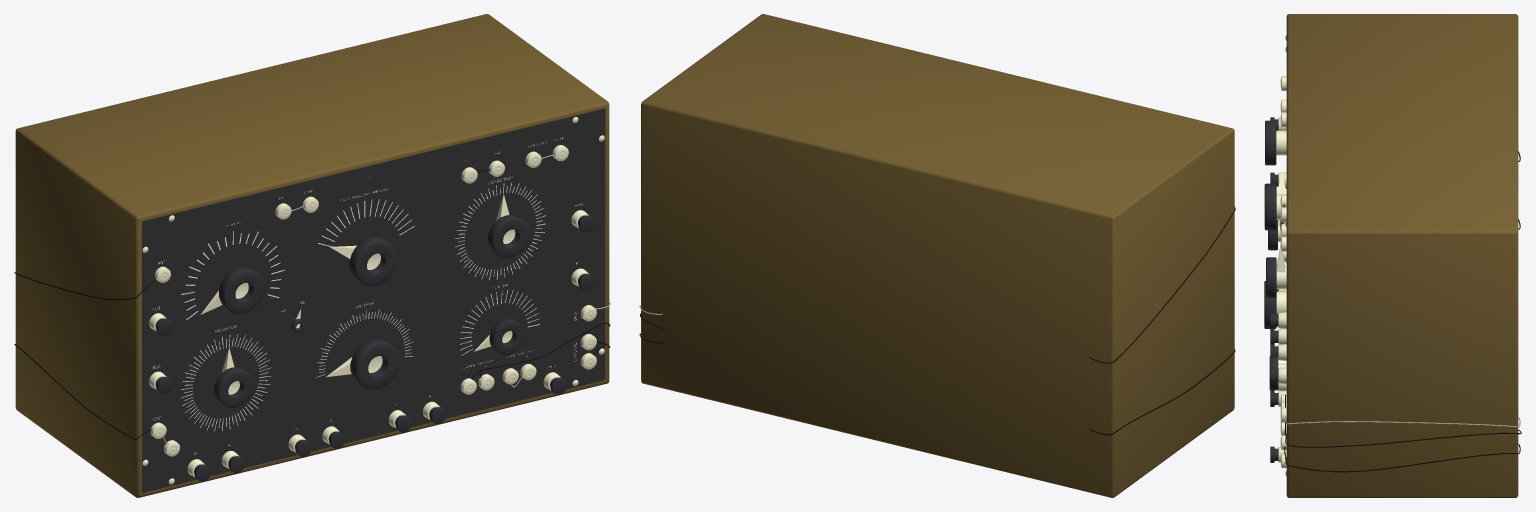
File: radio.FBX
The picture shows the model from 3 angles, left to right: view 1: azimuth 30°, elevation 25°; view 2: azimuth 150°, elevation 25°; view 3: azimuth 270°, elevation 25°; orthographic projection. The views are drawn at different scales.
Visible parts, largest first — view 1: radio, dial02, dial03, dial00, dial05, dial01, dial04; view 2: radio; view 3: radio, dial03, dial00, dial05, dial02, dial01.
Part boxes in pixels (x1,y1,x2,y2): radio: (14,14,610,497); dial02: (326,338,399,389); dial03: (330,236,397,286); dial00: (200,267,264,314); dial05: (488,194,529,257); dial01: (214,347,253,407); dial04: (474,318,524,354); radio: (639,14,1235,497); radio: (1270,14,1521,497); dial03: (1264,171,1286,230); dial00: (1265,120,1286,165); dial05: (1266,245,1286,297); dial02: (1264,281,1286,328); dial01: (1268,220,1281,250).
Size of the model in its own units: 38.1 by 21.46 by 18.75.
